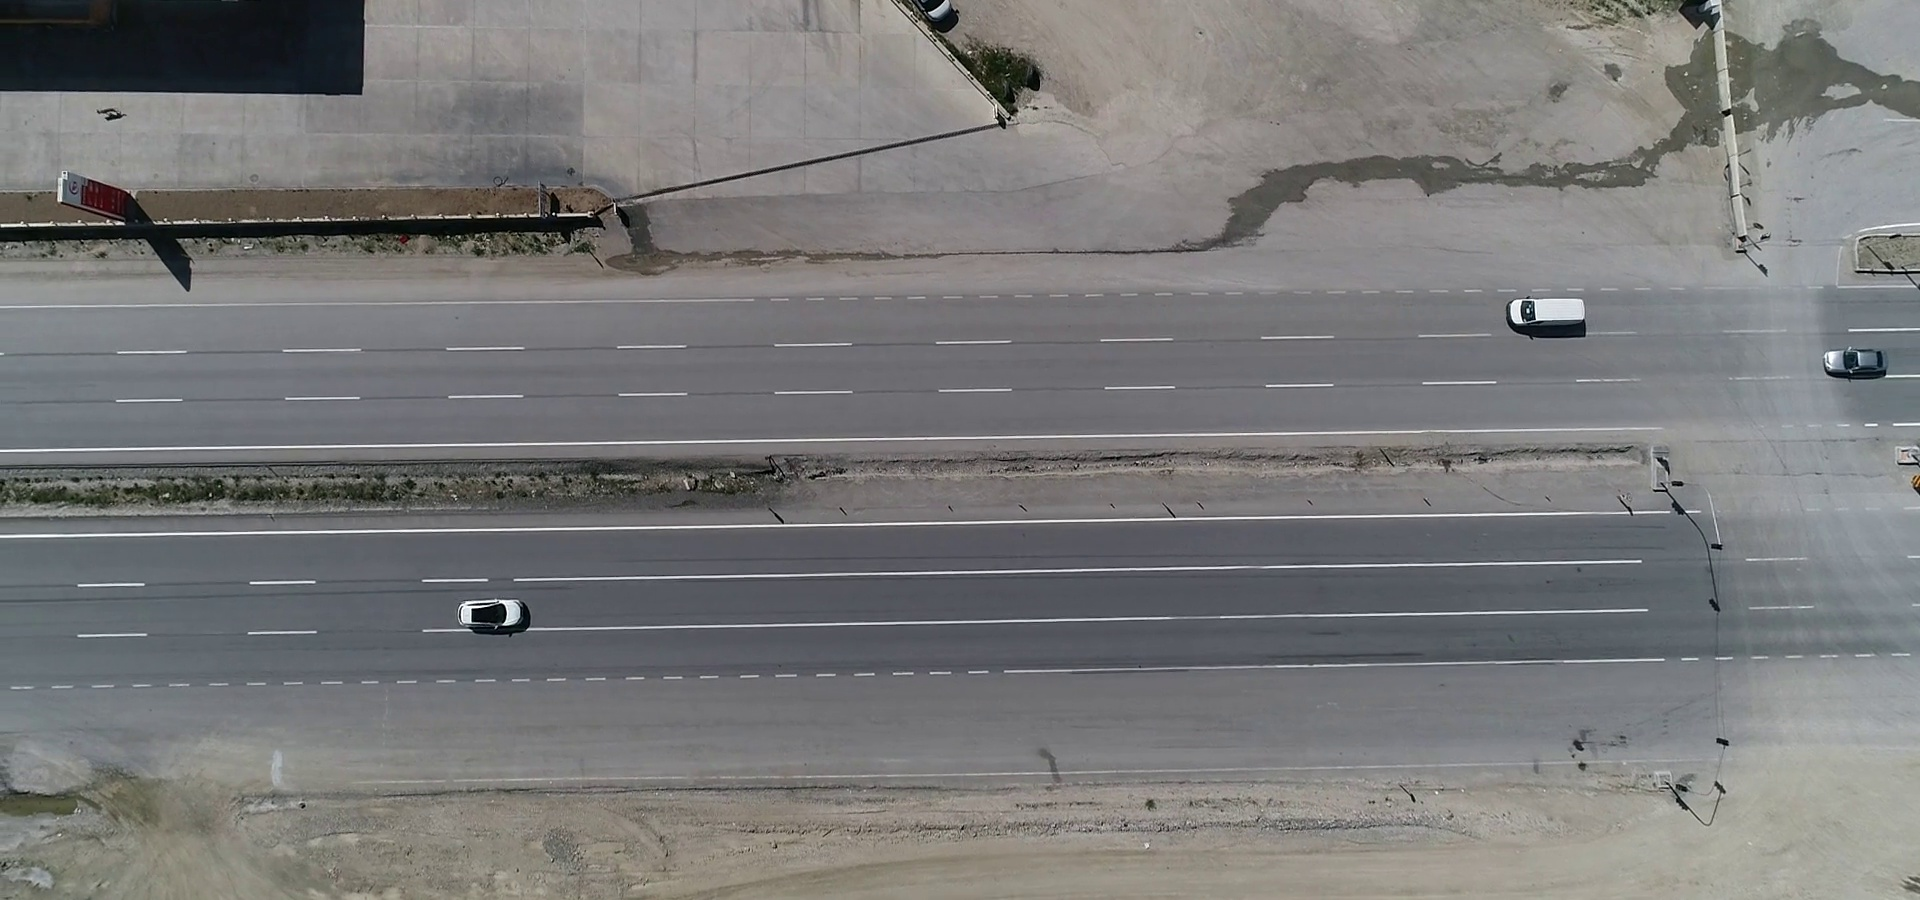arac: (1502, 298, 1596, 333), (451, 591, 534, 629), (1820, 340, 1887, 373)
